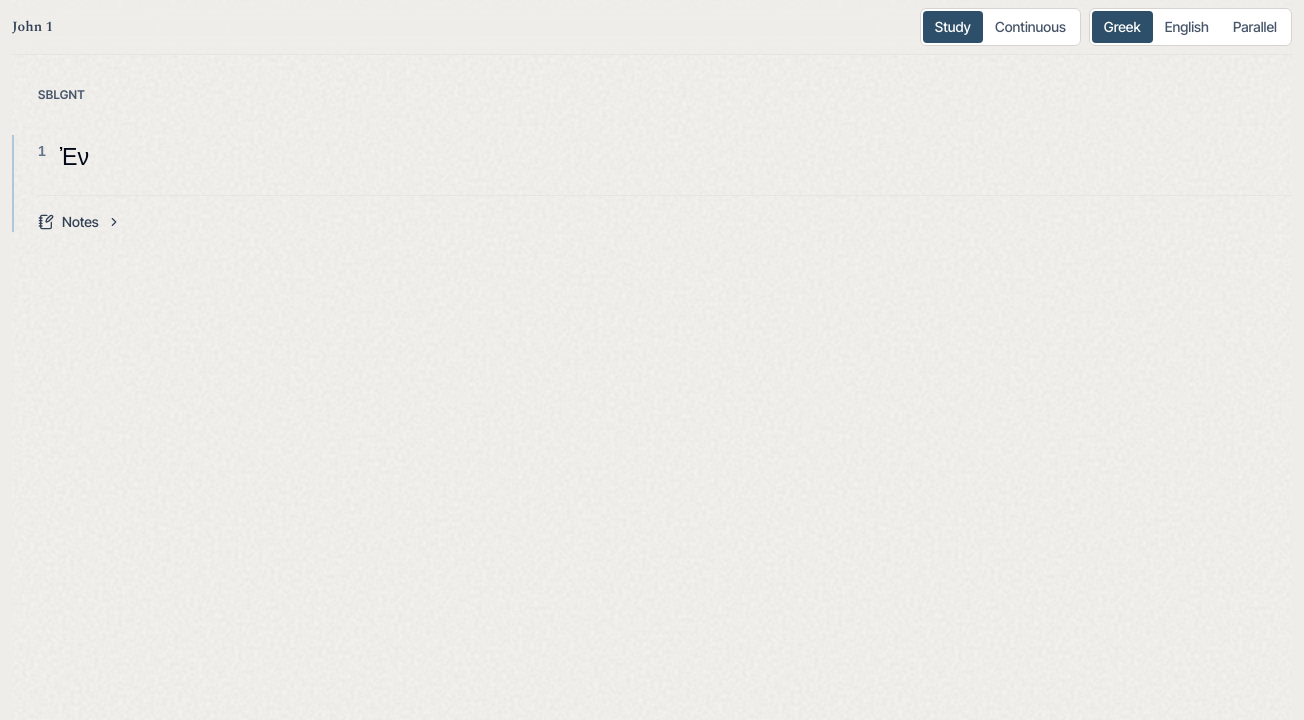
Test case: BibleReader optimistic highlight › reverts and shows an error when the request fails
Click the button "Ἐν".
click(74, 157)  # box [56,135,93,179]
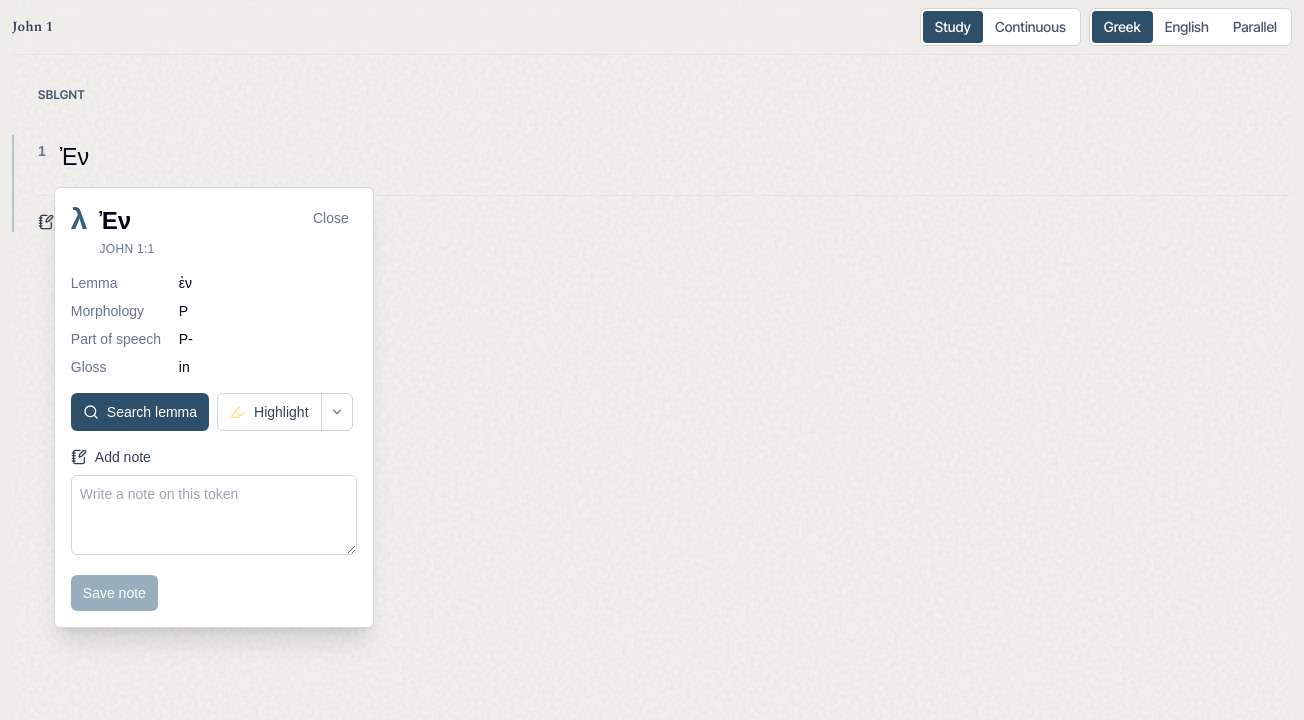
Click the button "Highlight".
click(269, 412)  # box [217,393,322,431]
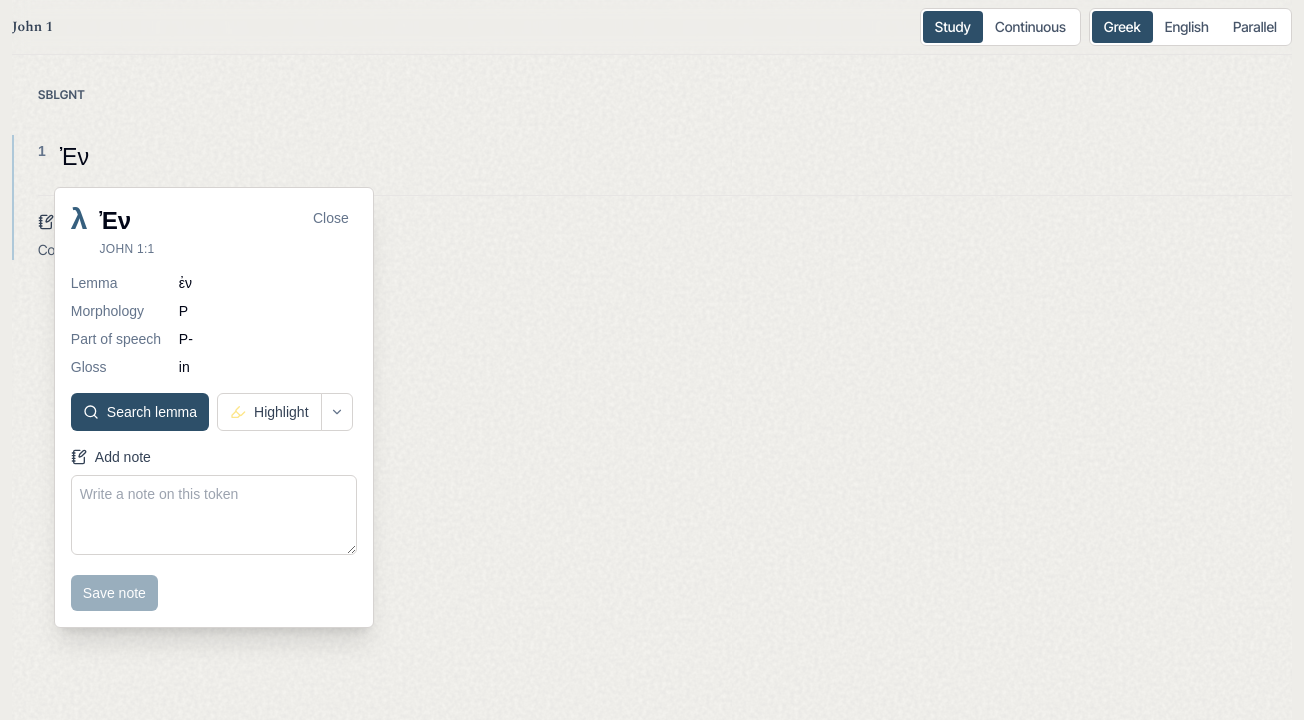
Check: the text "Could not save highlight." is shown, box [38,241,185,258]
